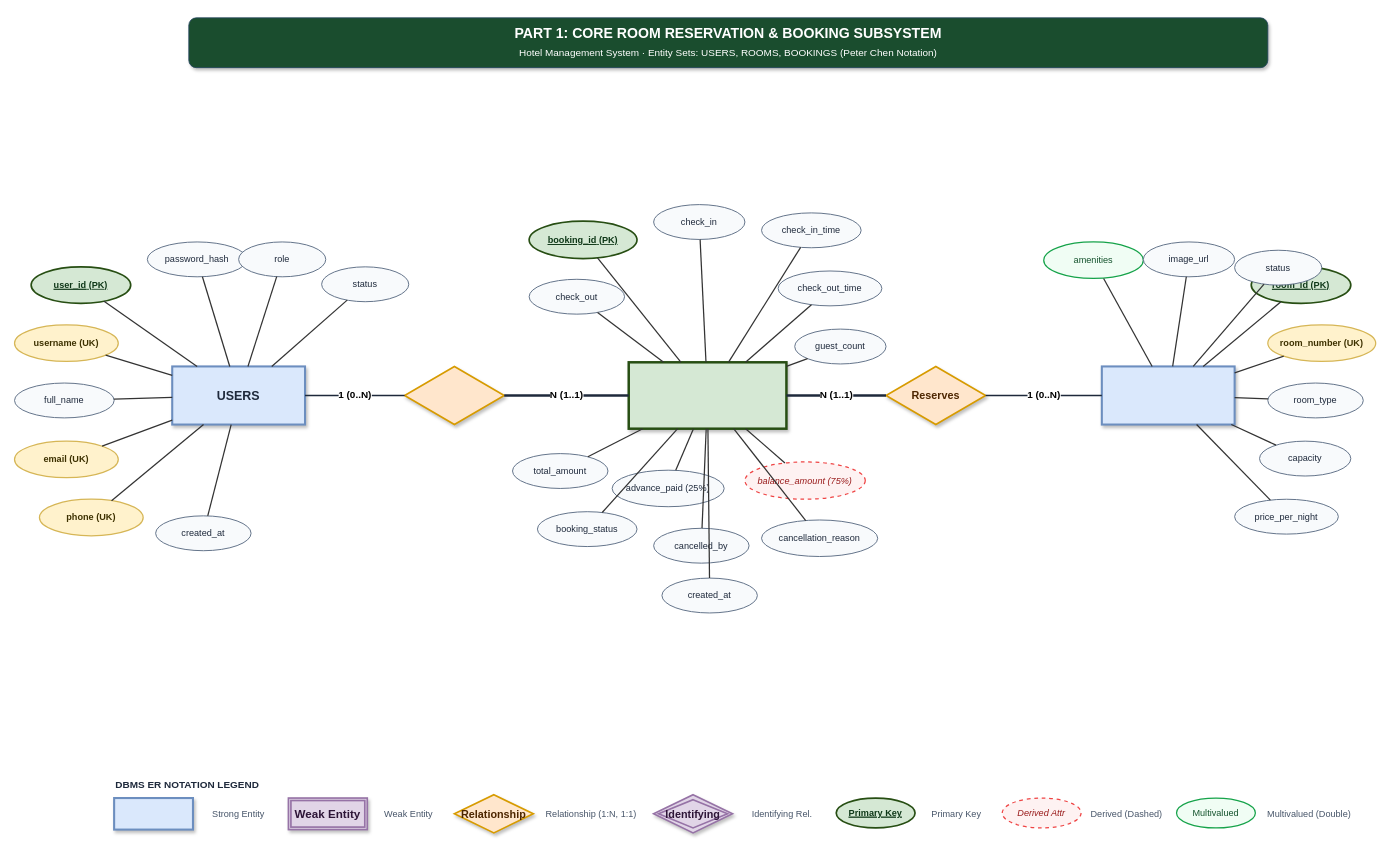
This 1391x854 diagram has some shape labels left out. The centre of each missing label's shape, as x and y in pixels:
"BOOKINGS" belongs at pixel 708 396.
"Entity Set" belongs at pixel 154 814.
"Places" belongs at pixel 455 396.
"ROOMS" belongs at pixel 1168 396.
